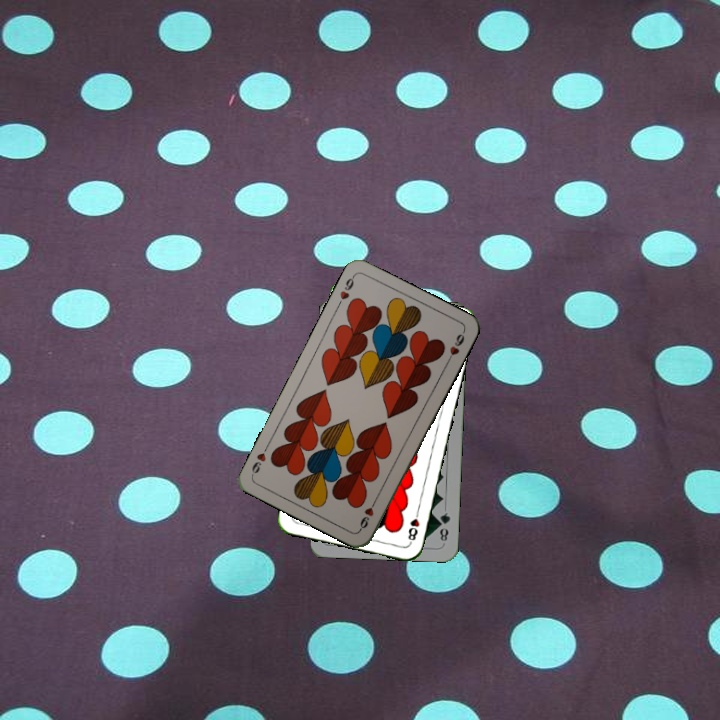G8: (435, 509, 453, 544)
H8: (404, 506, 422, 546)
H9: (355, 495, 379, 533), (336, 272, 357, 302)
